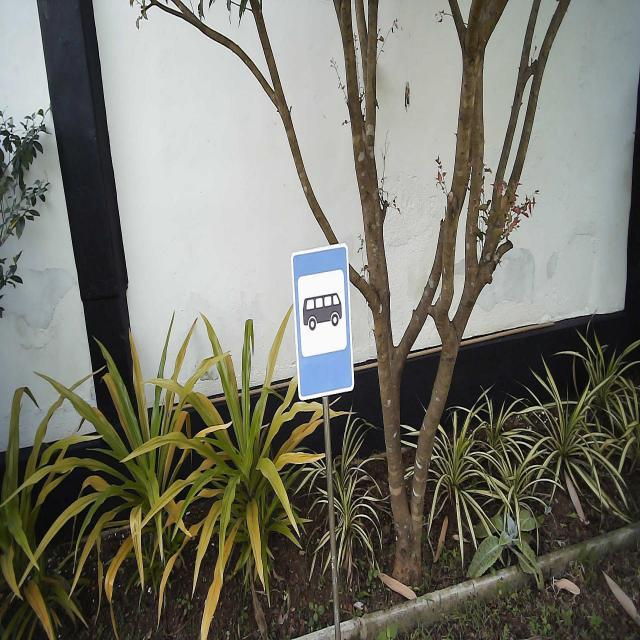bus_stop: (289, 242, 356, 402)
